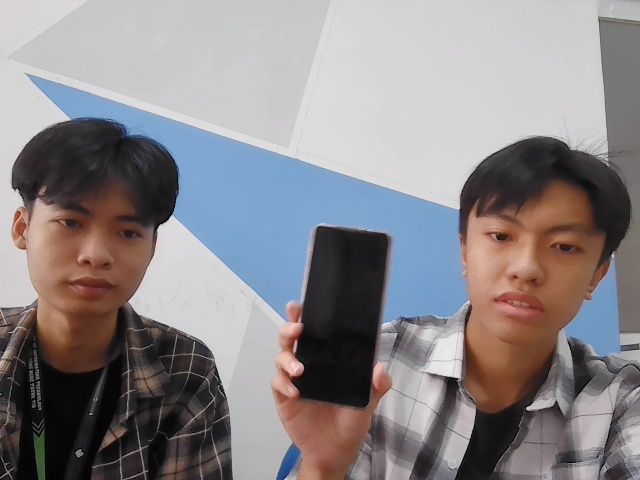human: (457, 134, 633, 351), (5, 118, 181, 328)
phone: (291, 209, 388, 417)
